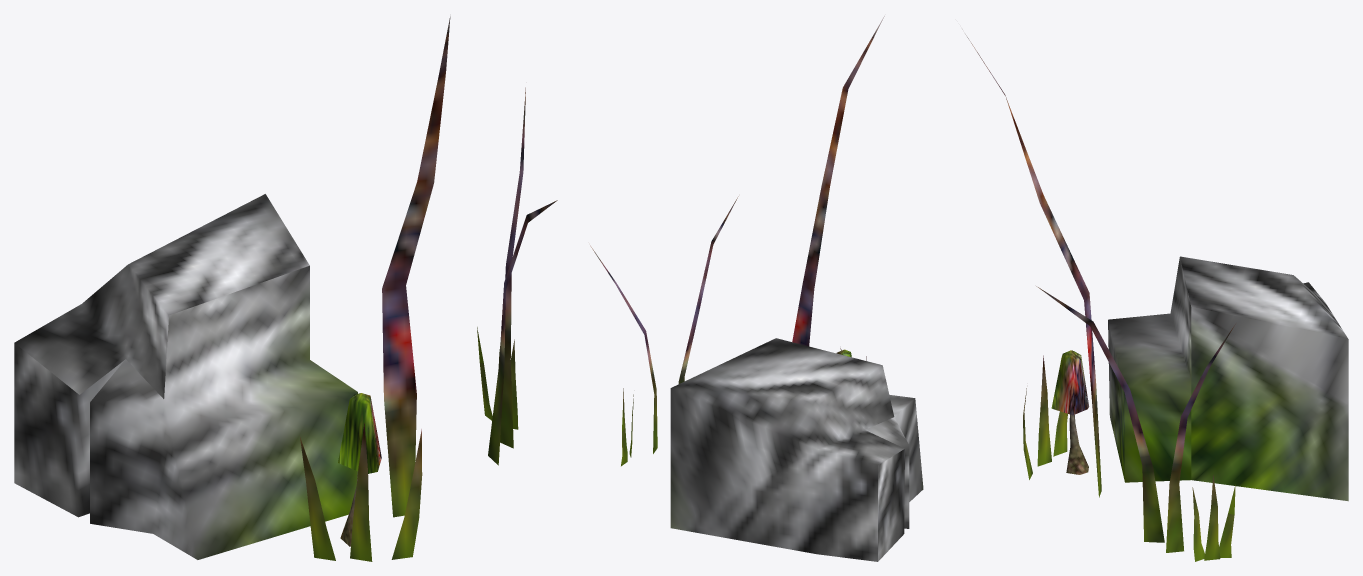
The model's file is GrassRockMushroom1.fbx.
3 renders of one model, left to right at view 1: azimuth 30°, elevation 25°; view 2: azimuth 150°, elevation 25°; view 3: azimuth 270°, elevation 25°, orthographic. The views are drawn at different scales.
Parts seen in each view (by area): view 1: GrassRockMushroom1; view 2: GrassRockMushroom1; view 3: GrassRockMushroom1.
Boxes of the visible parts, x1,y1,x2,y2 form: GrassRockMushroom1: [14, 16, 557, 561]; GrassRockMushroom1: [590, 16, 923, 561]; GrassRockMushroom1: [962, 29, 1348, 561].
Size of the model in its own units: 194 by 230 by 179.
